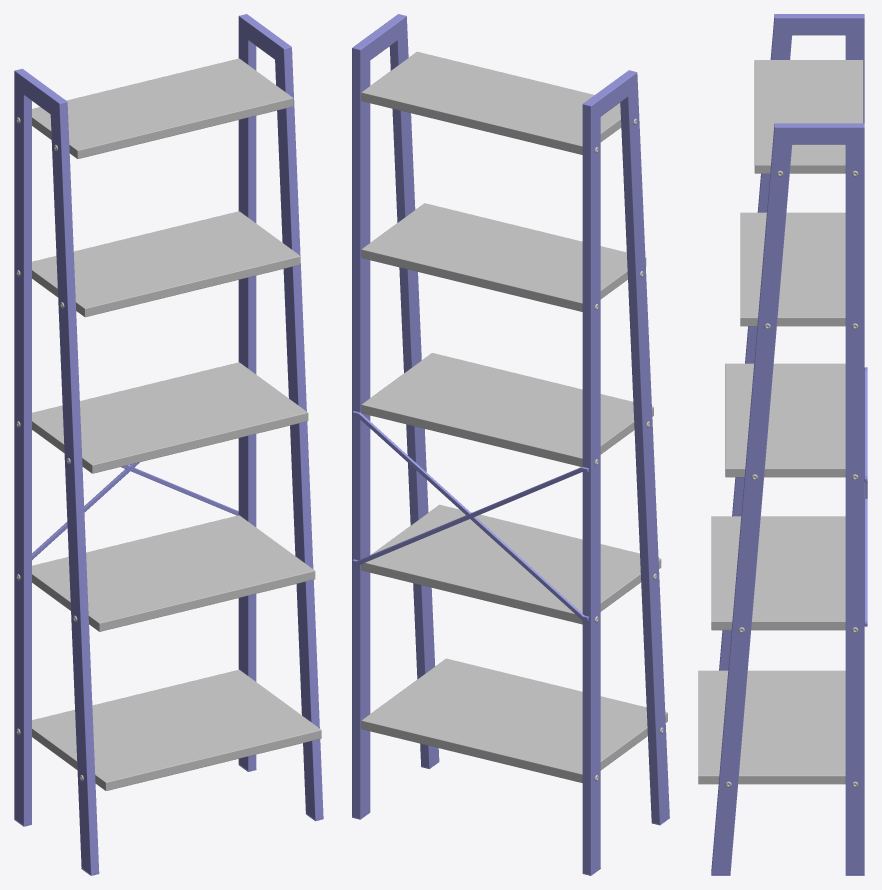
3 renders of one model, left to right at view 1: azimuth 30°, elevation 25°; view 2: azimuth 150°, elevation 25°; view 3: azimuth 270°, elevation 25°, orthographic. The views are drawn at different scales.
Parts seen in each view (by area): view 1: Self_wood, Self_metal; view 2: Self_wood, Self_metal; view 3: Self_wood, Self_metal, Self_screws.
Part boxes in pixels (bbox=[...]): Self_wood: bbox=[32, 58, 321, 790]; Self_metal: bbox=[14, 14, 323, 874]; Self_wood: bbox=[361, 51, 667, 782]; Self_metal: bbox=[352, 14, 669, 874]; Self_wood: bbox=[698, 60, 863, 784]; Self_metal: bbox=[711, 14, 867, 874]; Self_screws: bbox=[725, 170, 858, 787].
Bounding box in the file's own units: 56.59 × 172 × 35.28.
